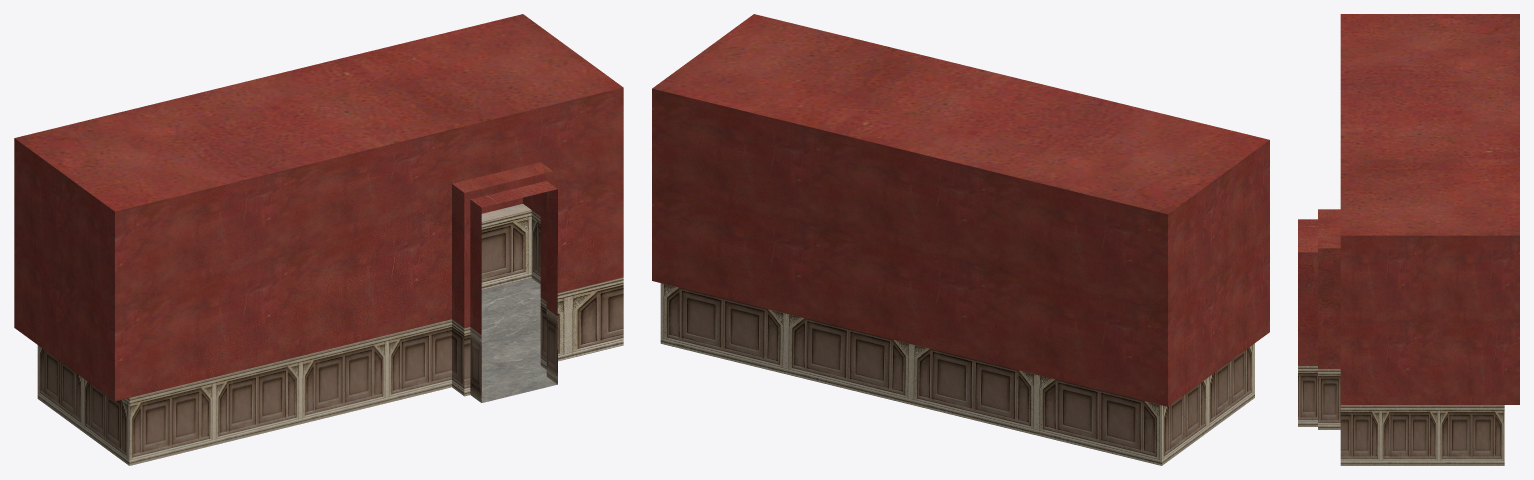
The model's file is thm_nboo_block_bldg_64x32_s01_r1_foyer1_mesh_r1.fbx.
3 renders of one model, left to right at view 1: azimuth 30°, elevation 25°; view 2: azimuth 150°, elevation 25°; view 3: azimuth 270°, elevation 25°, orthographic. The views are drawn at different scales.
Parts seen in each view (by area): view 1: mesh_node; view 2: mesh_node; view 3: mesh_node.
Boxes of the visible parts, left/top/right/bottom form: mesh_node: left=14, top=14, right=623, bottom=465; mesh_node: left=652, top=14, right=1269, bottom=465; mesh_node: left=1298, top=14, right=1519, bottom=465.
Bounding box in the file's own units: 8.6 × 4.16 × 3.64.
